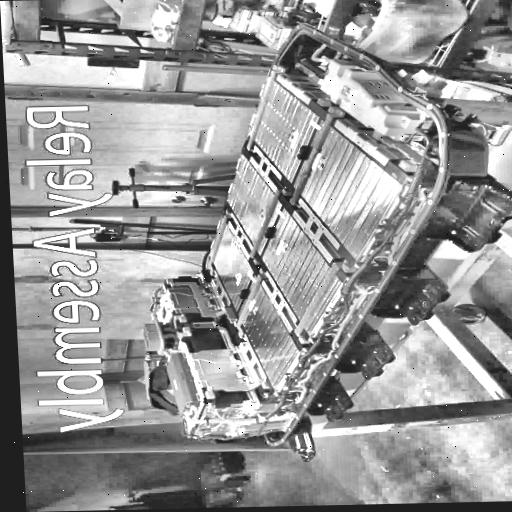battery_module: (292, 118, 402, 260), (261, 207, 345, 336), (248, 77, 321, 183), (239, 276, 300, 391), (226, 153, 284, 255), (210, 218, 255, 312)
